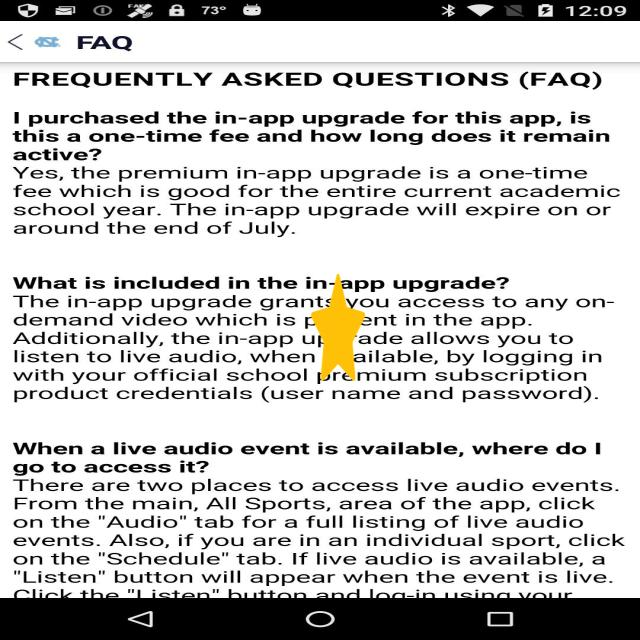forced continuity: (311, 274, 365, 381)
